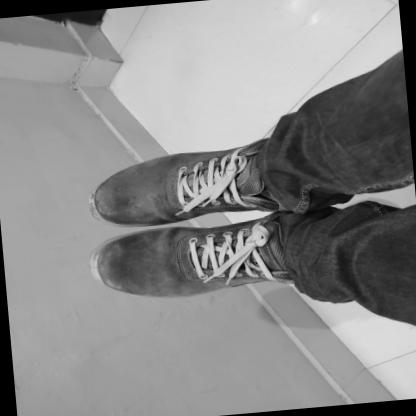ankle: (262, 251, 267, 254), (255, 188, 258, 190)
heel: (276, 218, 280, 222), (279, 205, 282, 208)
left_foot: (89, 136, 299, 231)
pinky: (123, 171, 129, 176), (135, 289, 139, 293)
right_foot: (87, 215, 318, 304)
toe: (112, 217, 117, 221), (111, 244, 113, 246)
